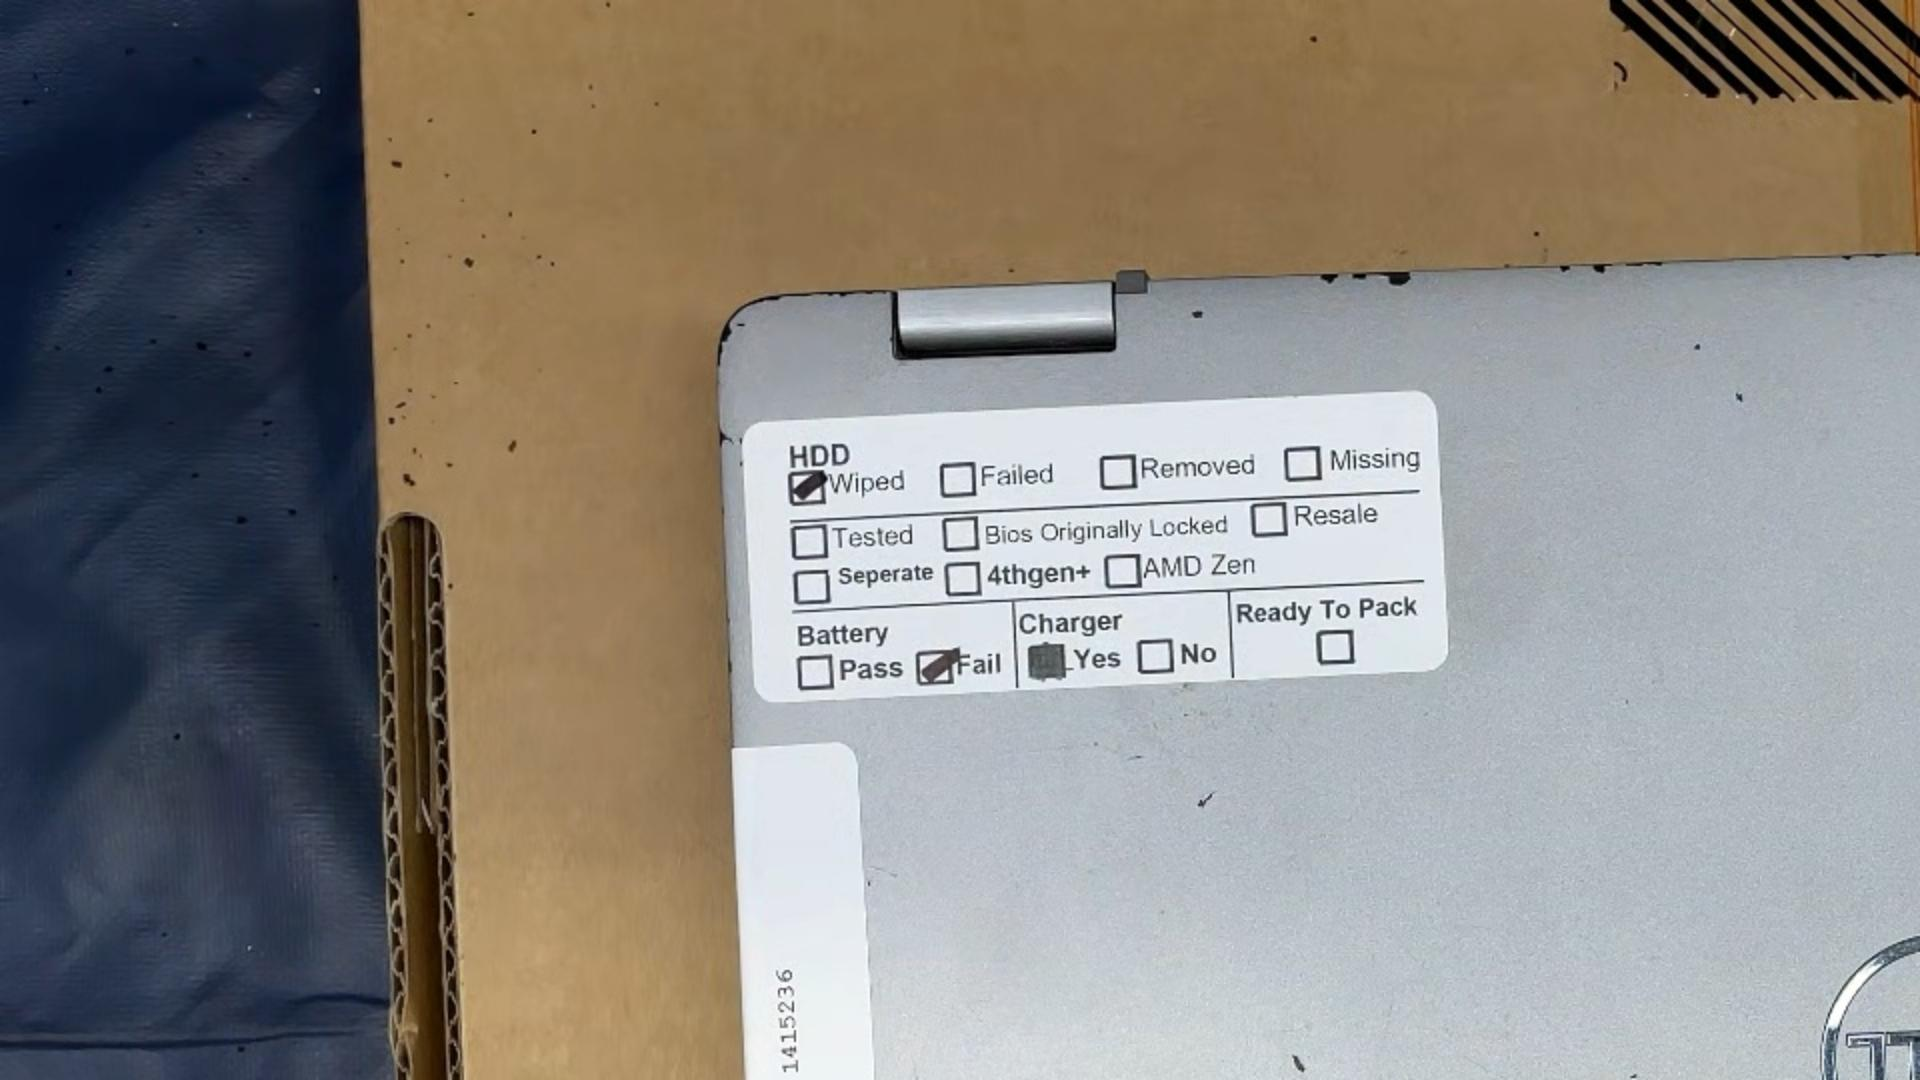chip: (716, 293, 786, 368), (1350, 272, 1415, 287), (720, 426, 735, 448), (1317, 273, 1340, 285), (1189, 307, 1207, 320), (1733, 386, 1745, 405), (1625, 261, 1664, 266), (1592, 264, 1607, 276), (827, 291, 853, 298), (1559, 265, 1572, 274), (1693, 342, 1702, 351)
scratches: (868, 865, 901, 881), (1290, 1050, 1309, 1076), (1195, 789, 1217, 810), (911, 1065, 919, 1080), (1630, 1071, 1638, 1080), (735, 323, 746, 327)
